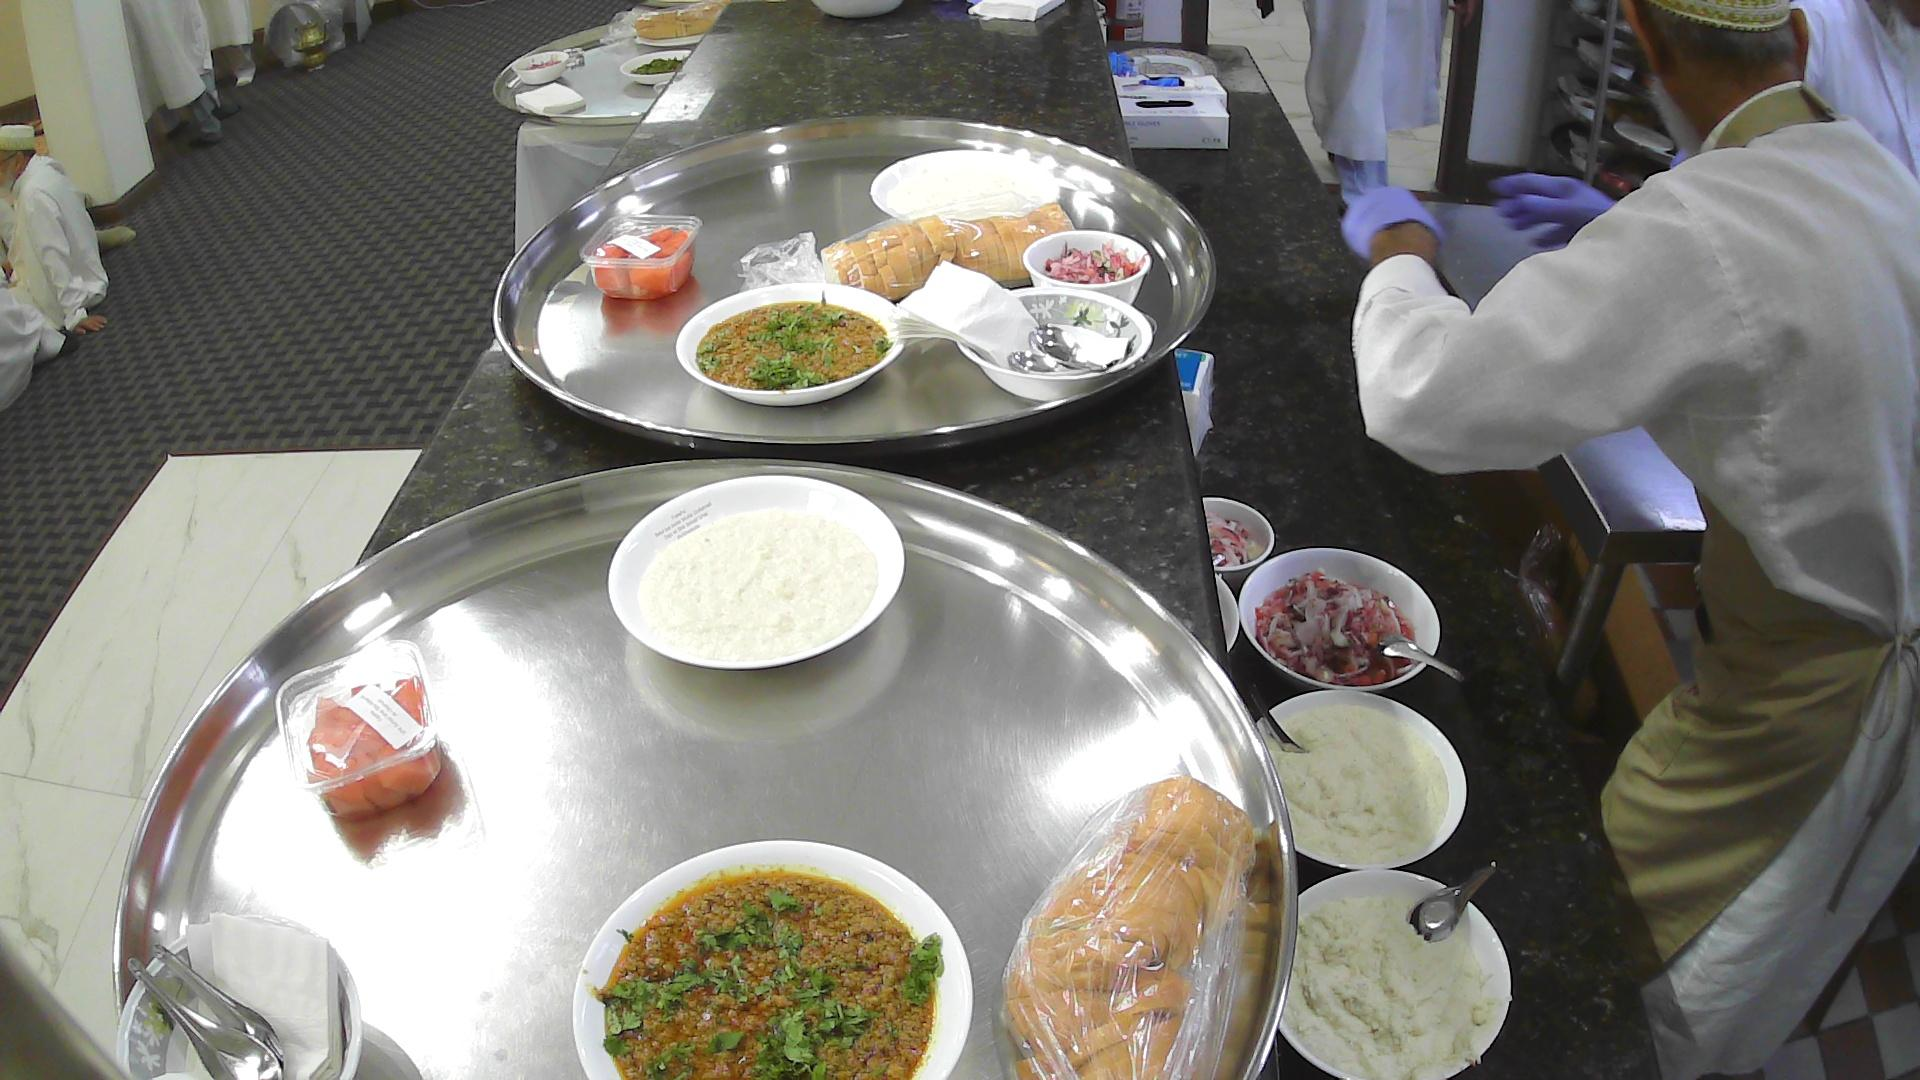thaal: (108, 444, 1304, 1080), (492, 105, 1221, 464), (491, 13, 716, 127)
